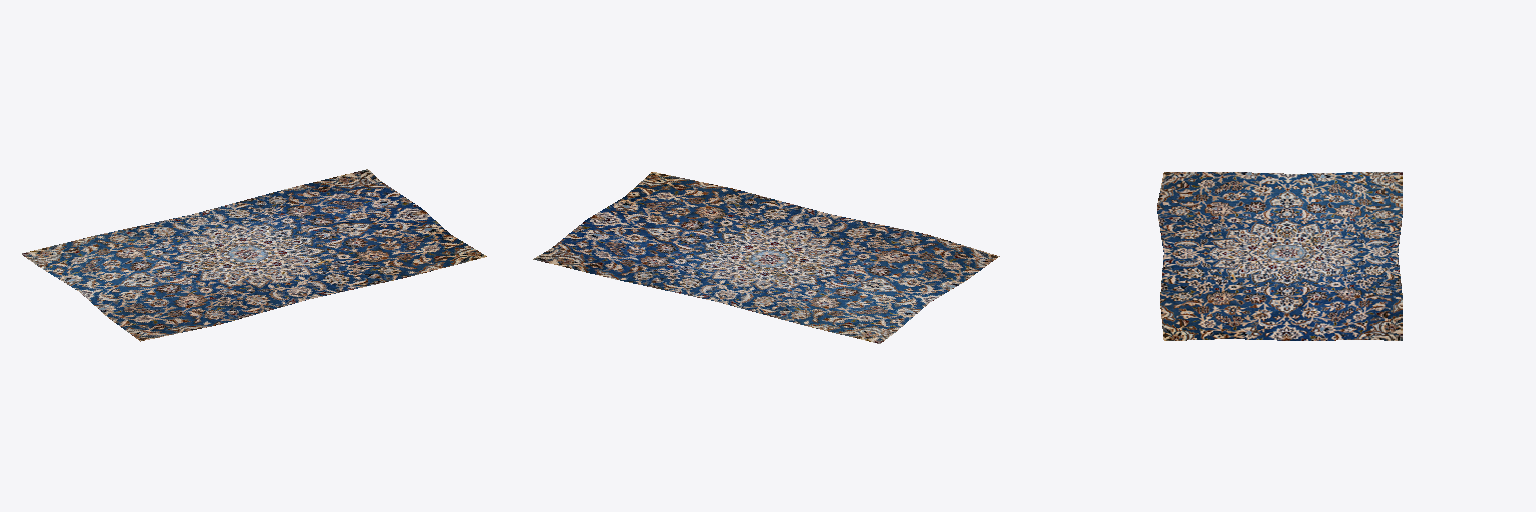
The picture shows the model from 3 angles: view 1: azimuth 30°, elevation 25°; view 2: azimuth 150°, elevation 25°; view 3: azimuth 270°, elevation 25°; orthographic projection.
Parts seen in each view (by area): view 1: rug2; view 2: rug2; view 3: rug2.
Boxes of the visible parts, x1=… form: rug2: x1=22, y1=169, x2=486, y2=341; rug2: x1=533, y1=172, x2=999, y2=343; rug2: x1=1157, y1=172, x2=1402, y2=340.
Bounding box in the file's own units: 3.36 × 0.0105 × 2.07.
1 materials, 1 textured.